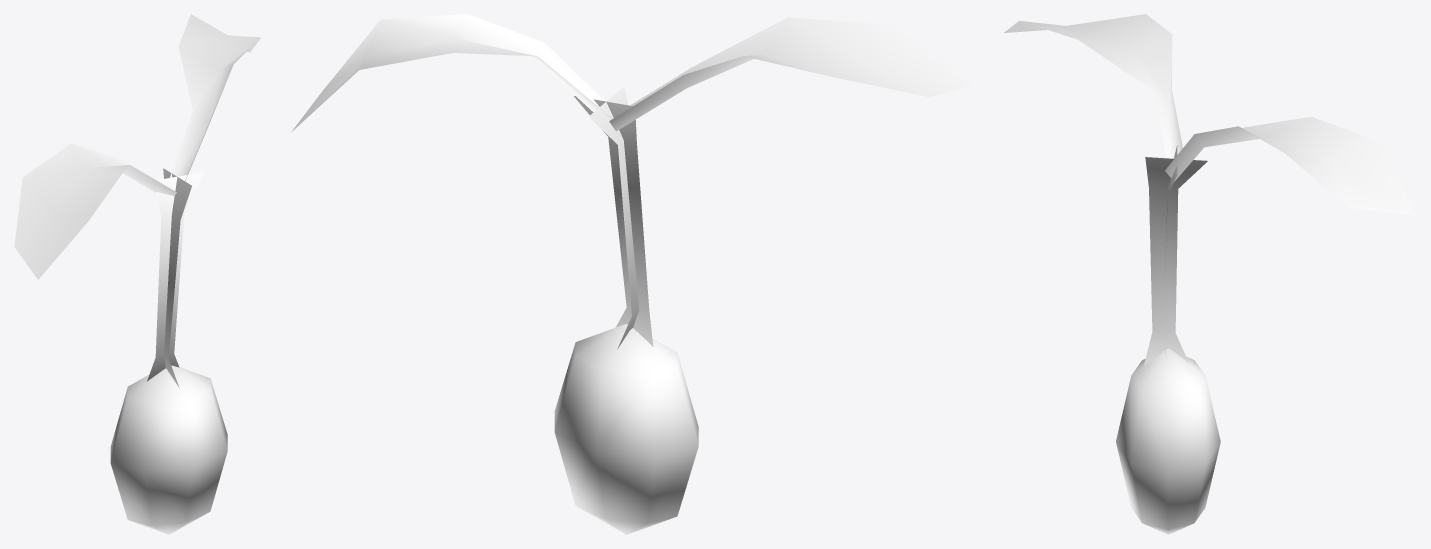
Rendered from SM_Seed2.FBX.
3 renders of one model, left to right at view 1: azimuth 30°, elevation 25°; view 2: azimuth 150°, elevation 25°; view 3: azimuth 270°, elevation 25°, orthographic. The views are drawn at different scales.
Parts seen in each view (by area): view 1: Sm_Seed2; view 2: Sm_Seed2; view 3: Sm_Seed2.
Part boxes in pixels (left/top/right/bottom): Sm_Seed2: left=14, top=14, right=261, bottom=534; Sm_Seed2: left=291, top=14, right=974, bottom=534; Sm_Seed2: left=1004, top=14, right=1416, bottom=534.
Size of the model in its own units: 17.6 by 19.18 by 15.62.
